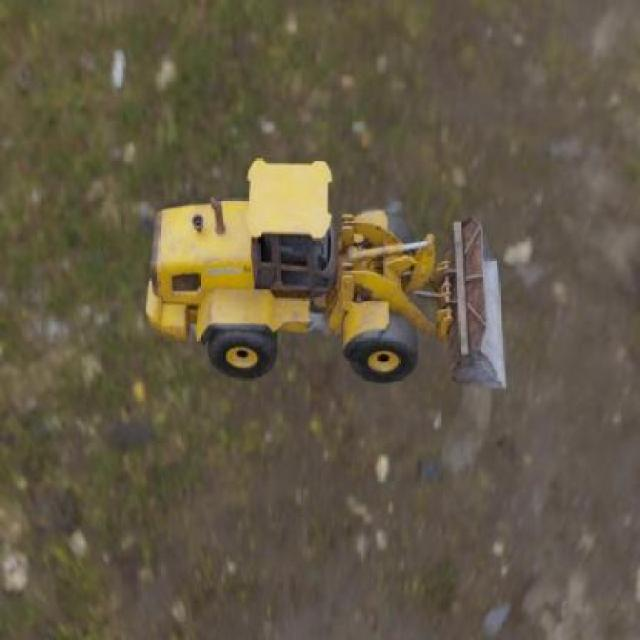buldozerpayloadergrader: (143, 153, 511, 398)
